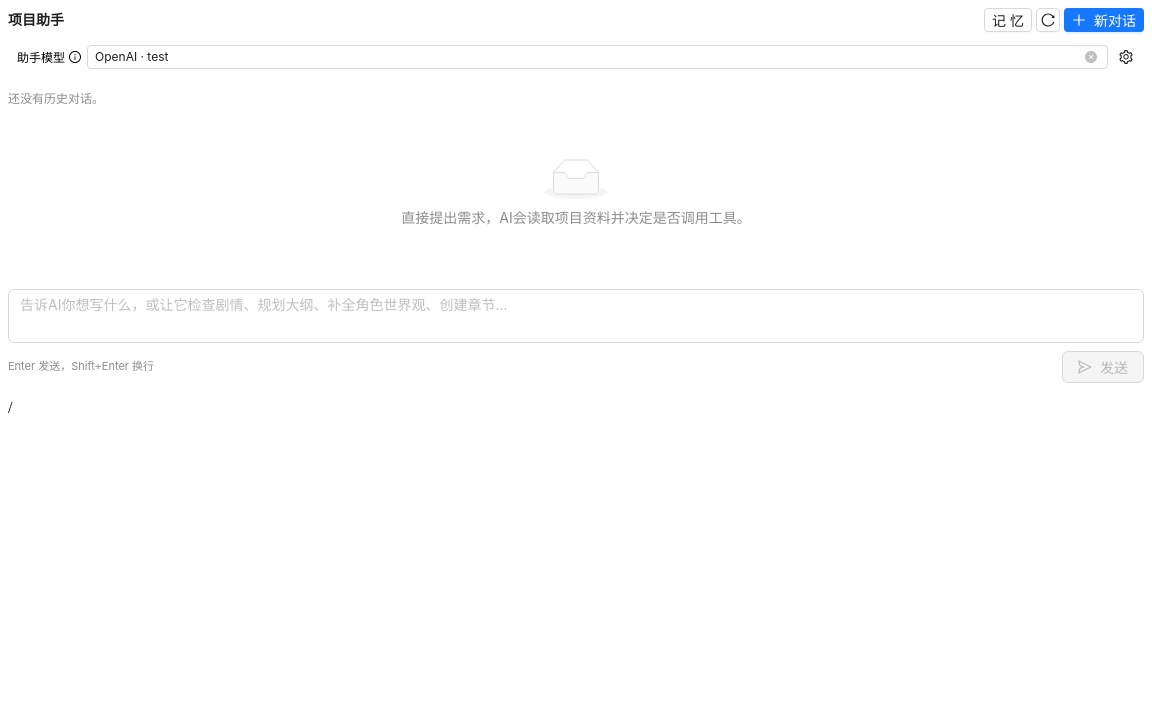
Test: WorkspaceAssistantChat cancellation and recovery › stops polling immediately on a fatal run lookup error
In the text box with placeholder "告诉AI你想写什么，或让它检查剧情、规划大纲、补全角色世界观、创建章节...": (576, 316) 8,289 -> 1144,343, type "写第一章"
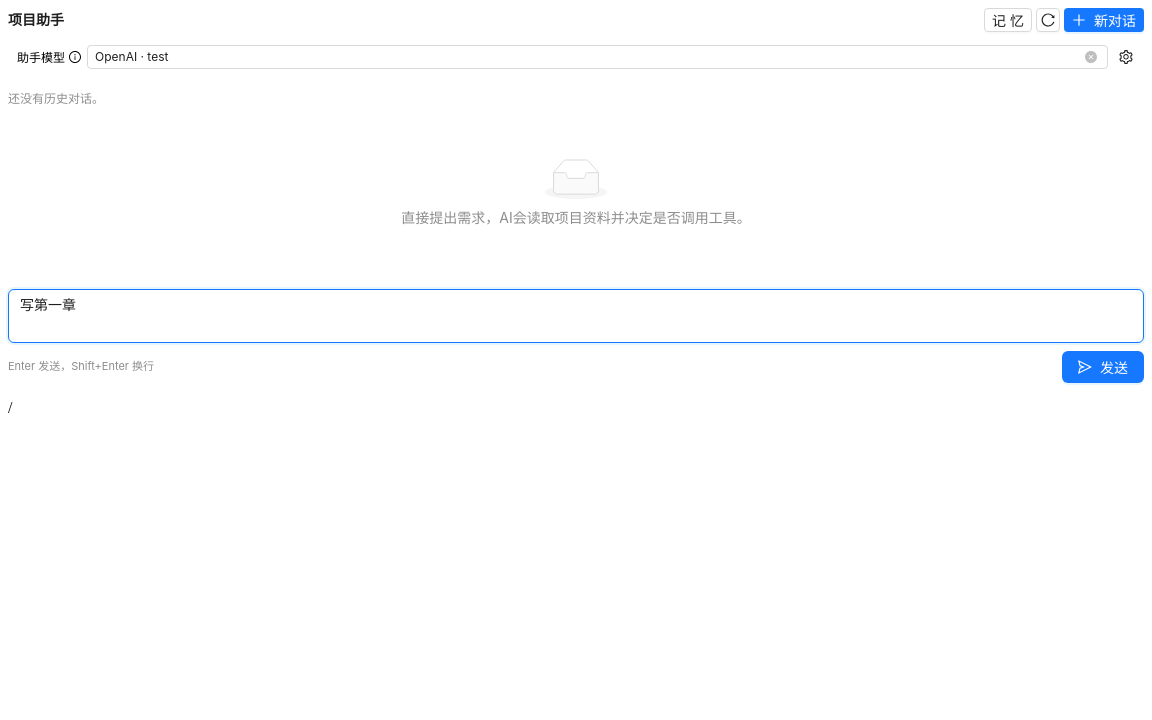
Click the button "发送": (1103, 367) 1062,351 -> 1144,383
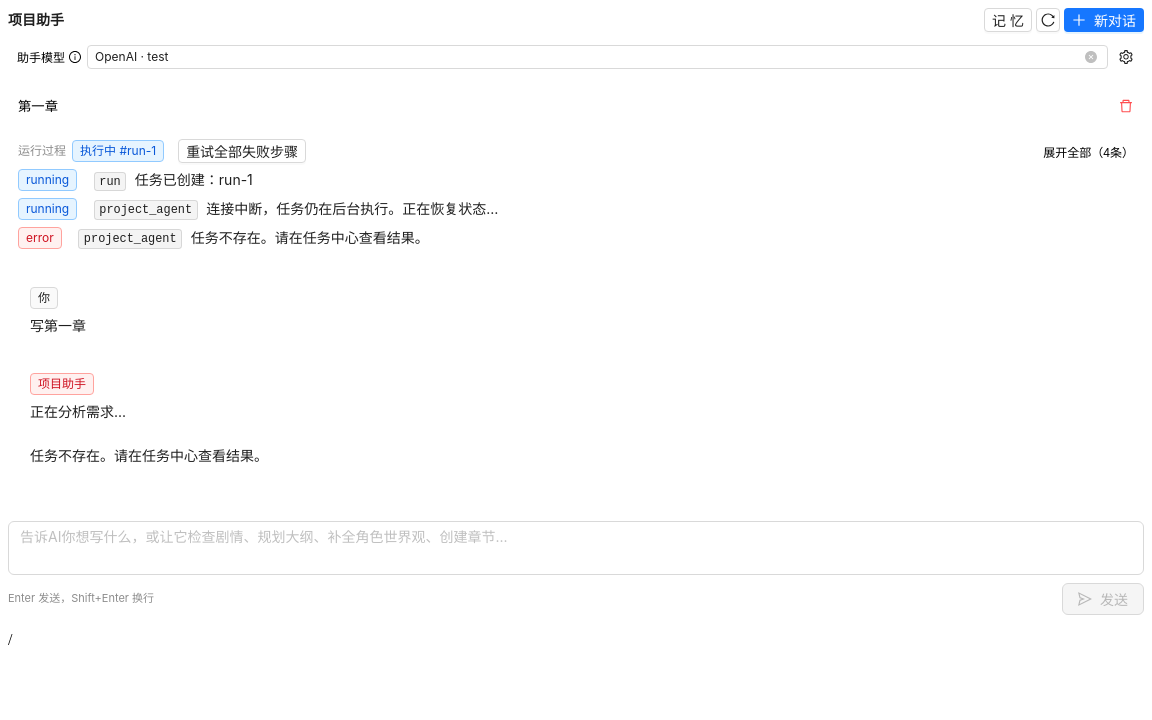
Expected: the button "发送" is shown, 1062,583 -> 1144,615
Now the text "任务已创建：run-1" is shown, box 135,169 -> 253,191
